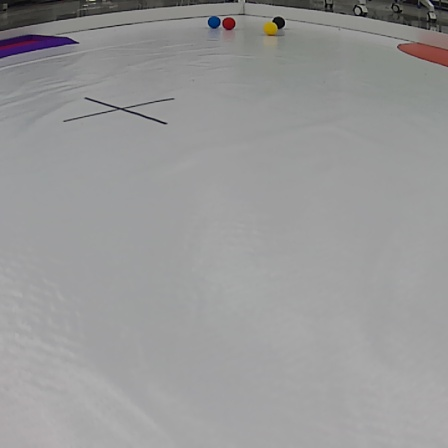black: (270, 14, 289, 31)
blue: (205, 14, 224, 30)
red: (221, 17, 236, 30)
red_aim: (0, 30, 84, 58)
red_base: (389, 36, 448, 80)
yellow: (262, 21, 281, 37)
